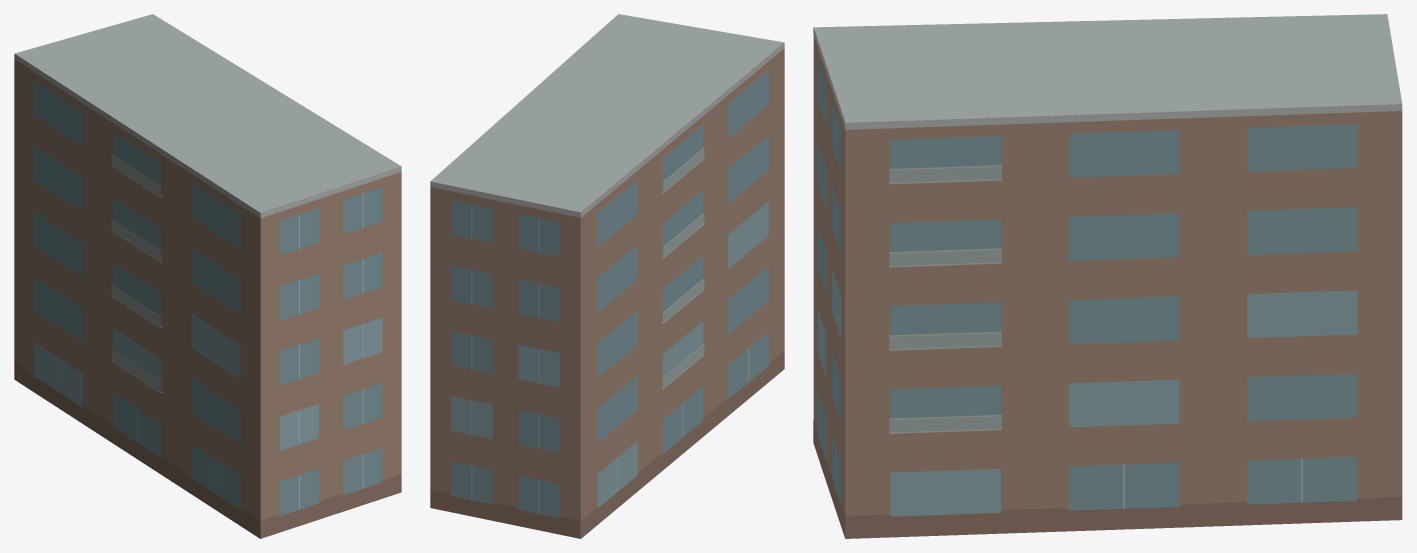
The model's file is survey-upis-32935057.glb.
The picture shows the model from 3 angles, left to right: view 1: azimuth 30°, elevation 25°; view 2: azimuth 150°, elevation 25°; view 3: azimuth 270°, elevation 25°; orthographic projection. The views are drawn at different scales.
Parts seen in each view (by area): view 1: survey-upis-32935057.tmp; view 2: survey-upis-32935057.tmp; view 3: survey-upis-32935057.tmp.
Part boxes in pixels (x1=…): survey-upis-32935057.tmp: x1=14, y1=14, x2=401, y2=538; survey-upis-32935057.tmp: x1=430, y1=14, x2=784, y2=538; survey-upis-32935057.tmp: x1=813, y1=14, x2=1402, y2=538.
Bounding box in the file's own units: 8.15 × 14.5 × 18.61.
